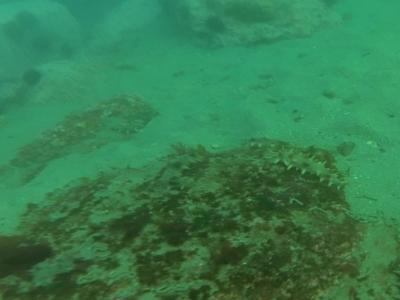holothurian: (271, 150, 346, 189), (110, 116, 144, 133)
urchin: (22, 69, 41, 84)
